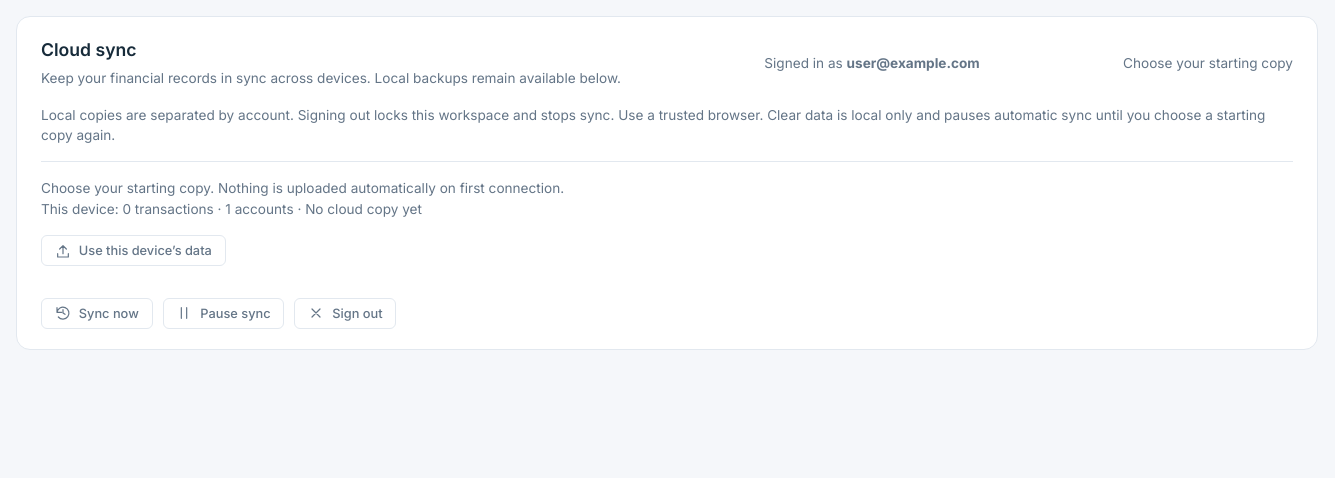
Test: shows uploading progress and prevents repeat requests until upload finishes
What coordinates should you click on to do the following:
click the button "Use this device’s data"
I would click on:
 (133, 250)
Its box is x1=41 y1=235 x2=226 y2=266.
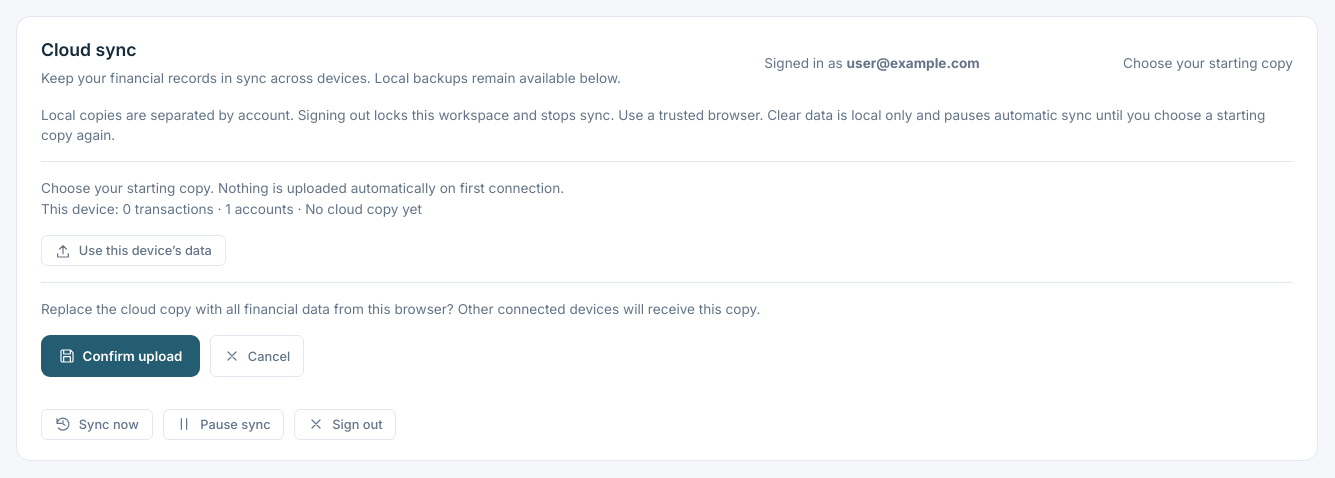
What coordinates should you click on to do the following:
click the button "Confirm upload"
I would click on:
 (120, 356)
Its box is x1=41 y1=335 x2=200 y2=377.
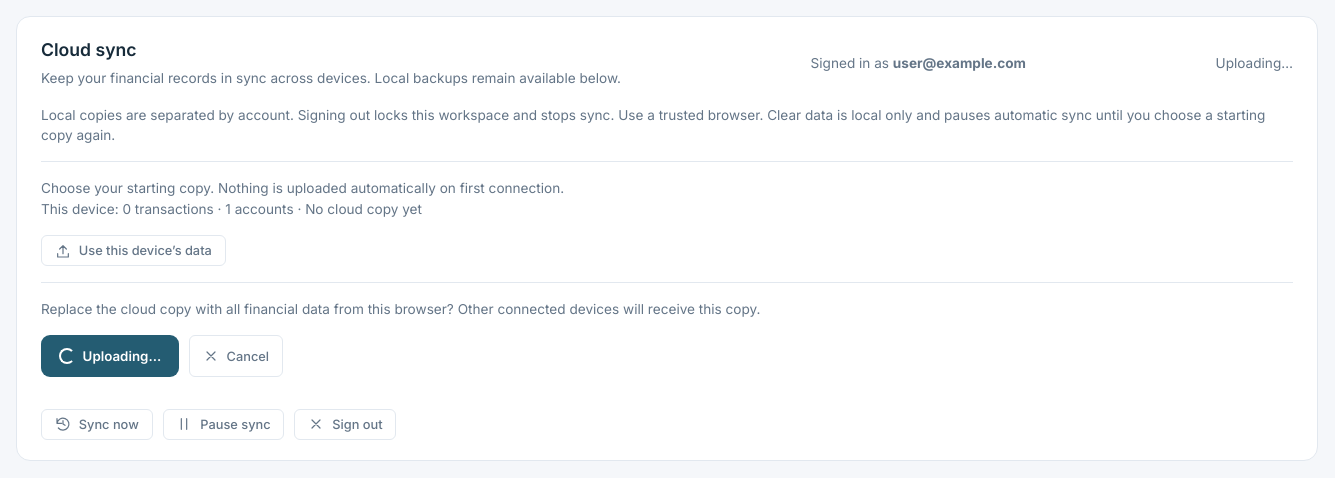
Expected: the button "Sync now" is disabled, x1=41 y1=409 x2=152 y2=440
Now the button "Uploading…" is disabled
What coordinates should you click on to do the following:
click the button "Uploading…"
I would click on:
 (110, 356)
Its box is x1=41 y1=335 x2=179 y2=377.
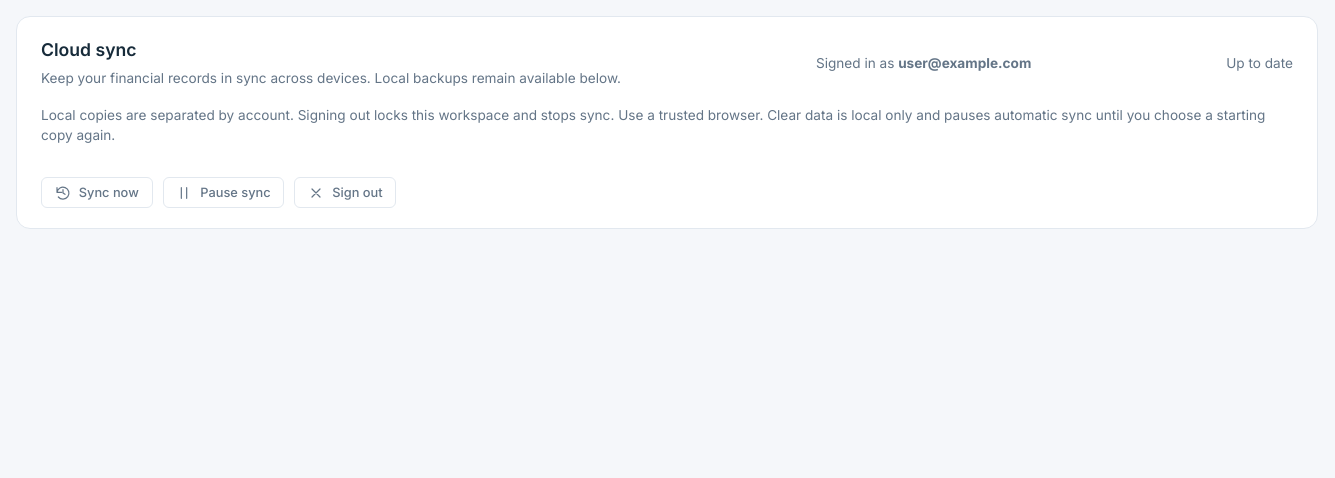
Now the message "Uploading…" is gone
Now the button "Sync now" is enabled, box x1=41 y1=177 x2=152 y2=208
